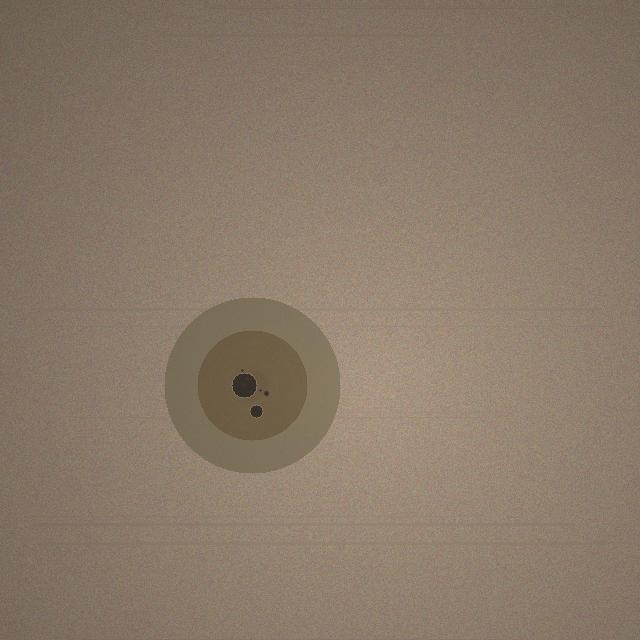shrinkage: (164, 297, 340, 473)
